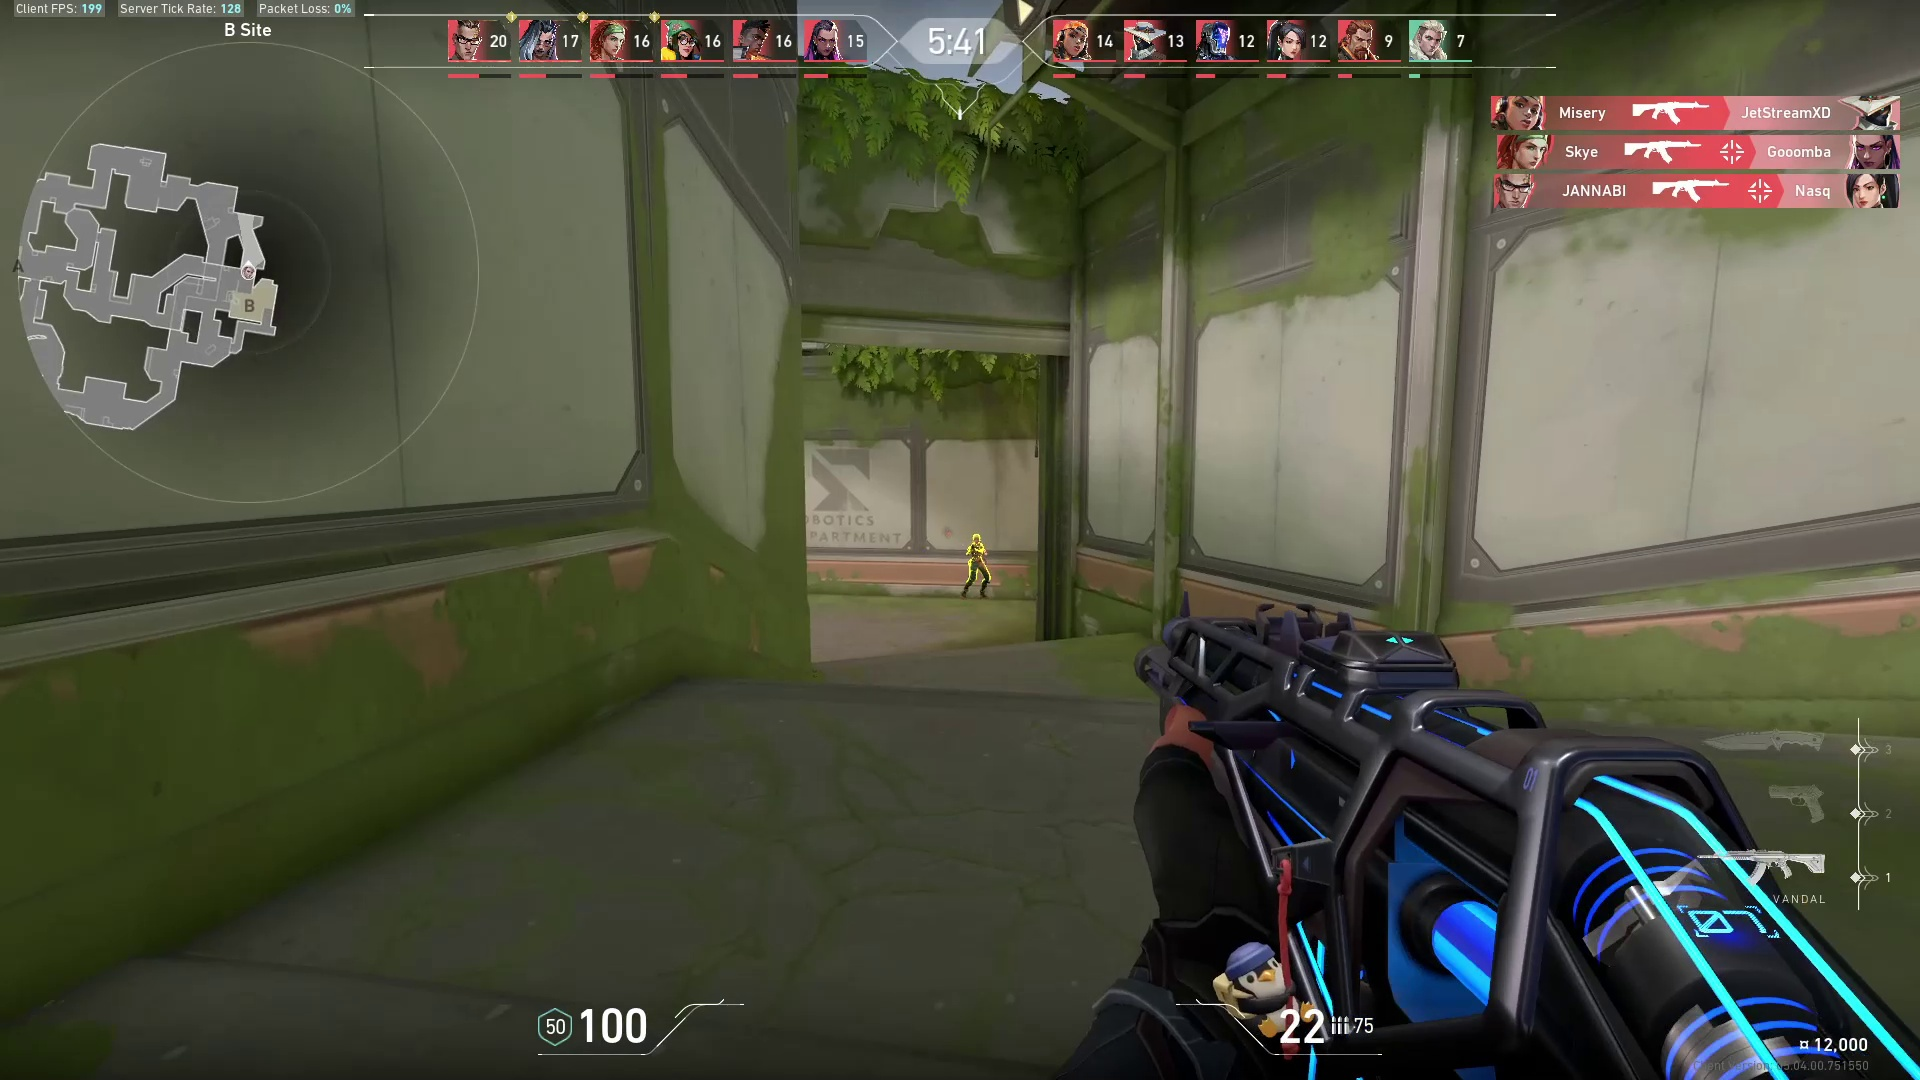enemy_body: (961, 545, 994, 601)
enemy_head: (971, 531, 984, 545)
